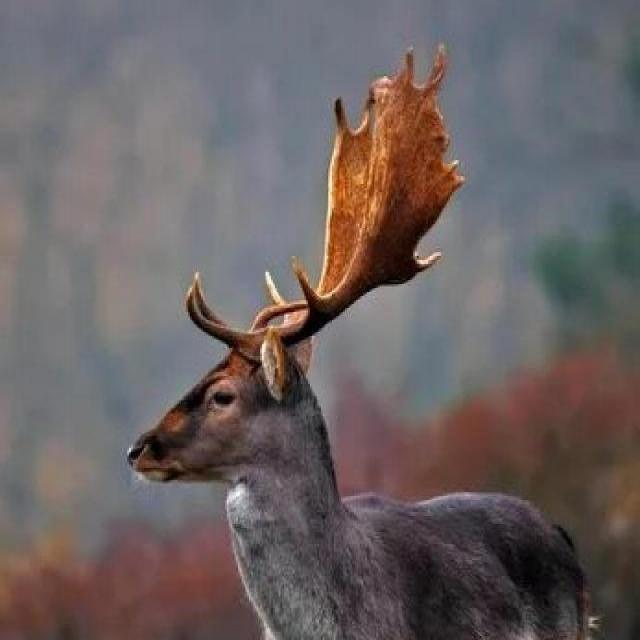deer: (115, 141, 640, 640)
